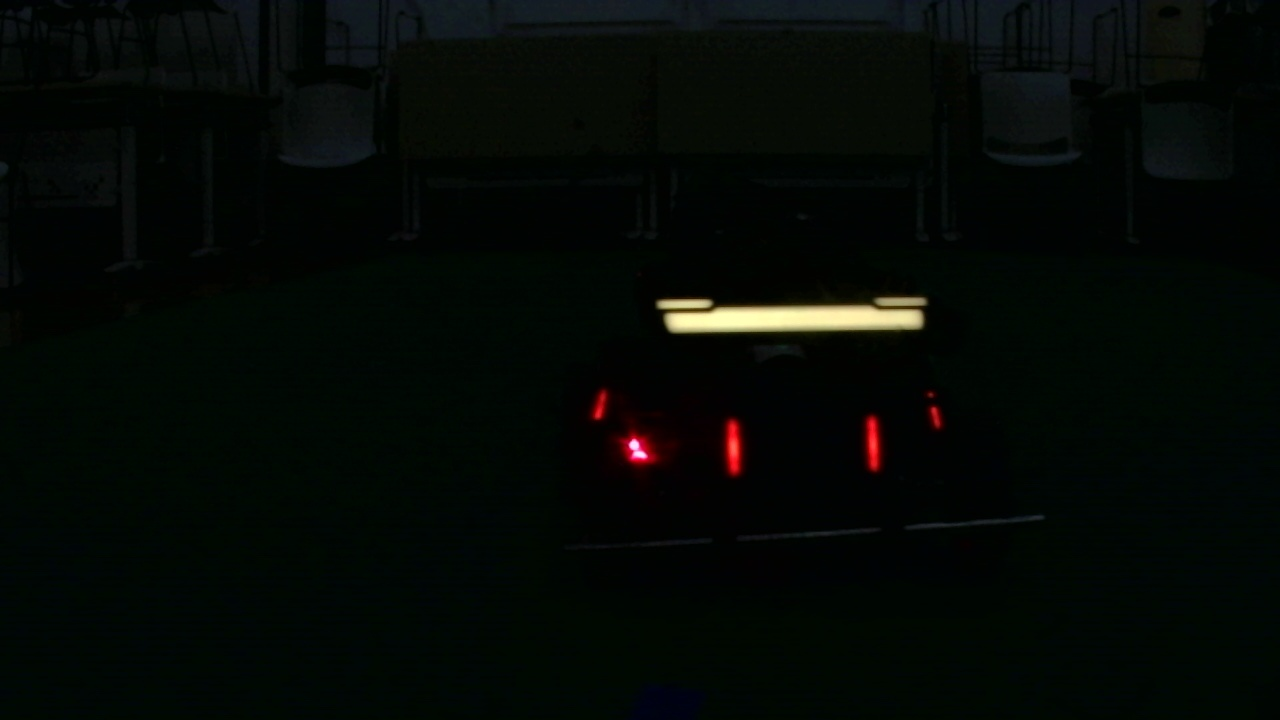lamp: (863, 415, 885, 474), (724, 420, 745, 479), (921, 385, 944, 429), (593, 378, 610, 425)
notpair1: (592, 383, 744, 478), (864, 381, 941, 478)
pair1: (723, 418, 886, 474)
